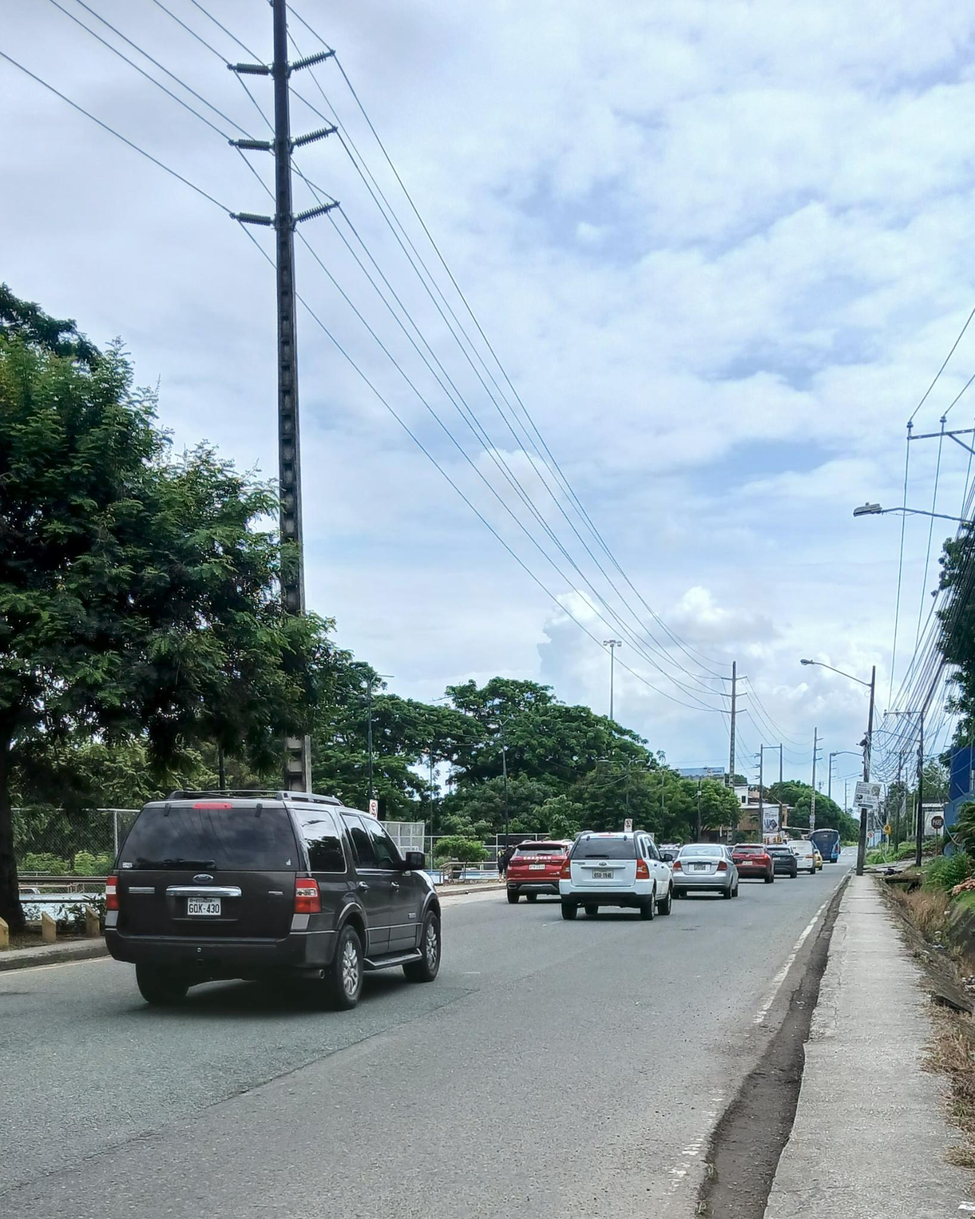license_plate: (187, 899, 222, 915), (593, 870, 614, 878), (529, 863, 546, 870), (692, 864, 705, 871)
